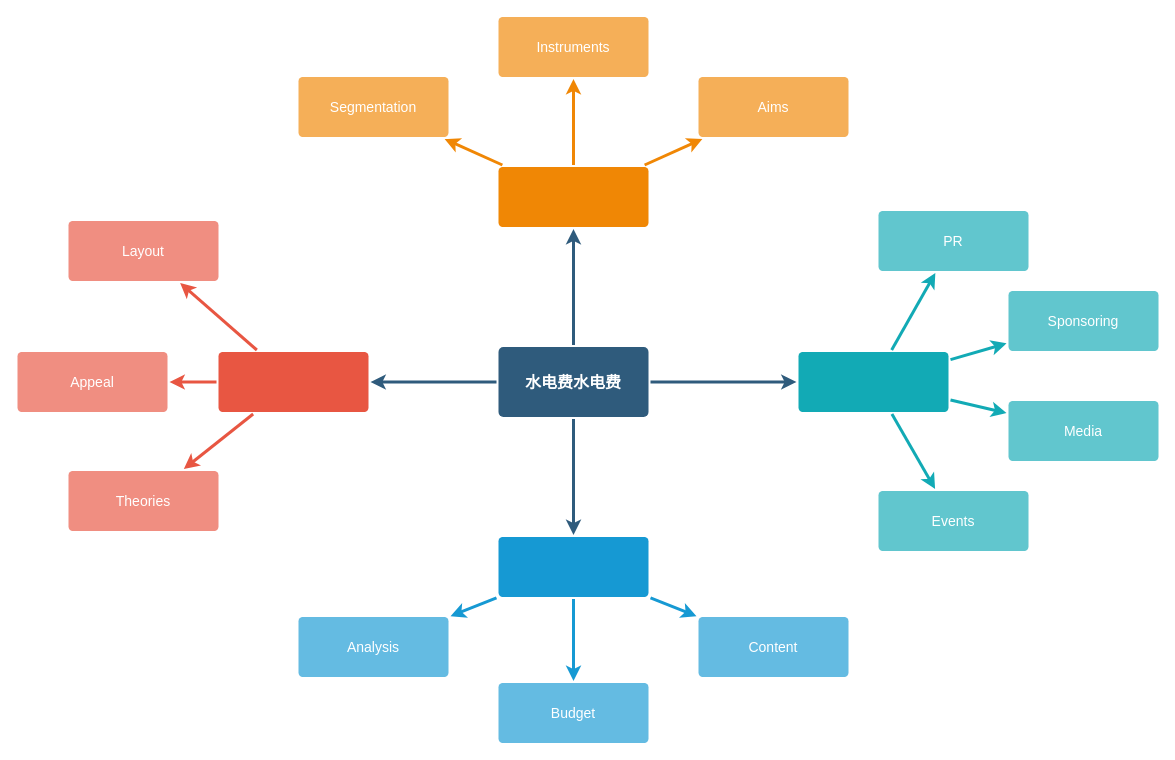
The diagram is 1175 pixels wide and 760 high, and some of its shapes have lost their labels. Here are the shapes that lost their labels. From the top down, the centre of each, then its label:
At (x=293, y=382): "Embassy".
At (x=873, y=382): "Communication".
At (x=573, y=566): "阿斯顿发斯蒂芬".
